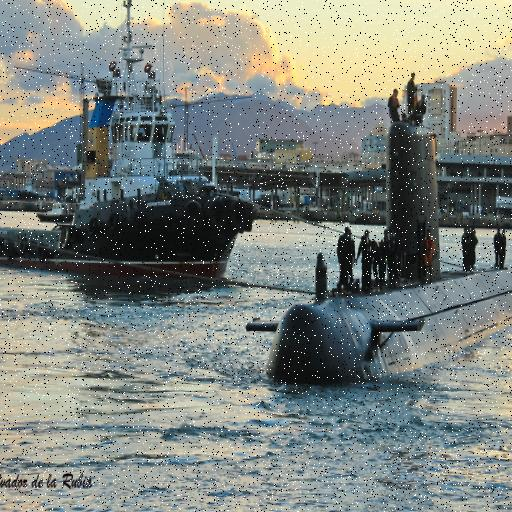submarine: (242, 120, 512, 390)
